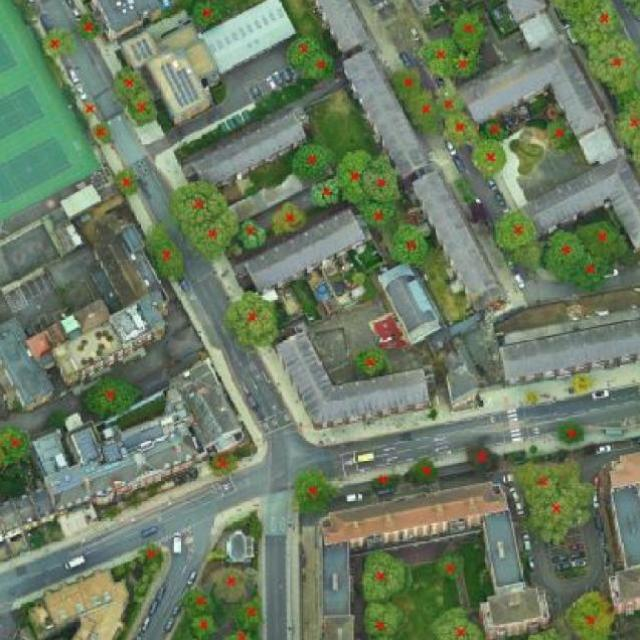tree: (521, 483, 602, 552), (347, 543, 427, 604), (217, 287, 287, 354), (163, 178, 243, 228), (136, 221, 192, 290), (544, 0, 628, 45), (588, 31, 640, 102), (79, 371, 146, 425), (285, 465, 346, 524), (509, 452, 596, 493), (183, 210, 247, 265), (564, 581, 618, 640), (485, 203, 542, 257), (573, 216, 636, 264), (385, 220, 437, 275), (357, 153, 411, 205), (543, 226, 588, 288), (285, 138, 340, 187), (179, 0, 245, 39), (354, 595, 410, 640), (335, 142, 373, 208), (403, 84, 447, 140), (568, 248, 615, 300), (425, 602, 489, 640), (107, 62, 162, 104), (414, 36, 460, 84), (263, 199, 312, 244), (614, 89, 640, 172), (0, 422, 44, 471), (462, 436, 508, 482), (451, 7, 494, 56), (229, 215, 274, 259), (439, 108, 483, 153), (430, 544, 474, 588), (283, 34, 336, 70), (357, 194, 403, 235), (210, 560, 248, 609), (125, 92, 169, 134), (538, 117, 585, 154), (304, 174, 347, 214), (469, 138, 512, 178), (348, 344, 393, 382), (233, 592, 274, 633), (35, 26, 79, 64), (401, 453, 445, 490), (385, 60, 427, 98), (70, 12, 111, 50), (201, 449, 246, 483), (179, 582, 224, 616), (554, 411, 590, 452), (179, 607, 223, 640), (301, 52, 346, 84), (108, 165, 149, 200), (445, 49, 490, 80), (475, 115, 515, 144), (432, 88, 467, 120), (363, 470, 406, 496), (84, 121, 120, 149), (524, 621, 576, 640), (134, 540, 169, 568), (566, 370, 596, 398), (76, 96, 102, 122), (218, 627, 266, 640), (623, 0, 640, 25)
